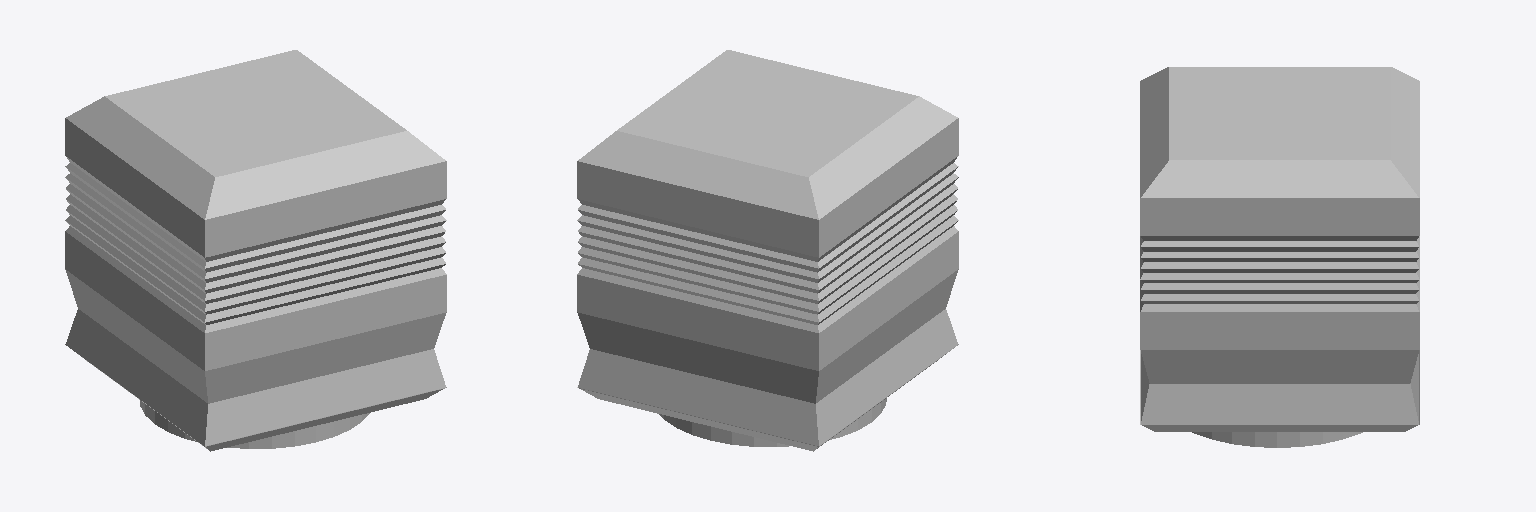
The model's file is движок.obj.
3 views of the same model, side by side, from view 1: azimuth 30°, elevation 25°; view 2: azimuth 150°, elevation 25°; view 3: azimuth 270°, elevation 25° (orthographic).
Parts seen in each view (by area): view 1: Cube; view 2: Cube; view 3: Cube.
Boxes of the visible parts, <box> form: Cube: <box>65,50,446,451</box>; Cube: <box>577,50,958,451</box>; Cube: <box>1140,67,1419,447</box>.
Size of the model in its own units: 0.8 by 0.9015 by 0.8.